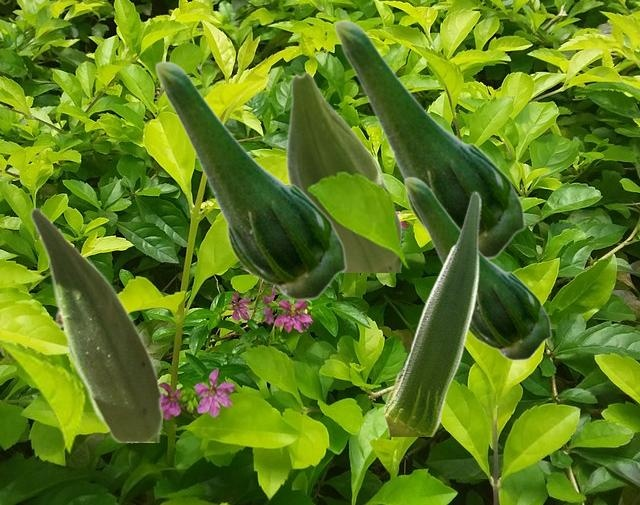okra: (333, 19, 525, 259), (154, 60, 346, 300), (29, 206, 161, 441), (403, 176, 551, 360), (383, 190, 480, 435), (285, 71, 400, 271)
